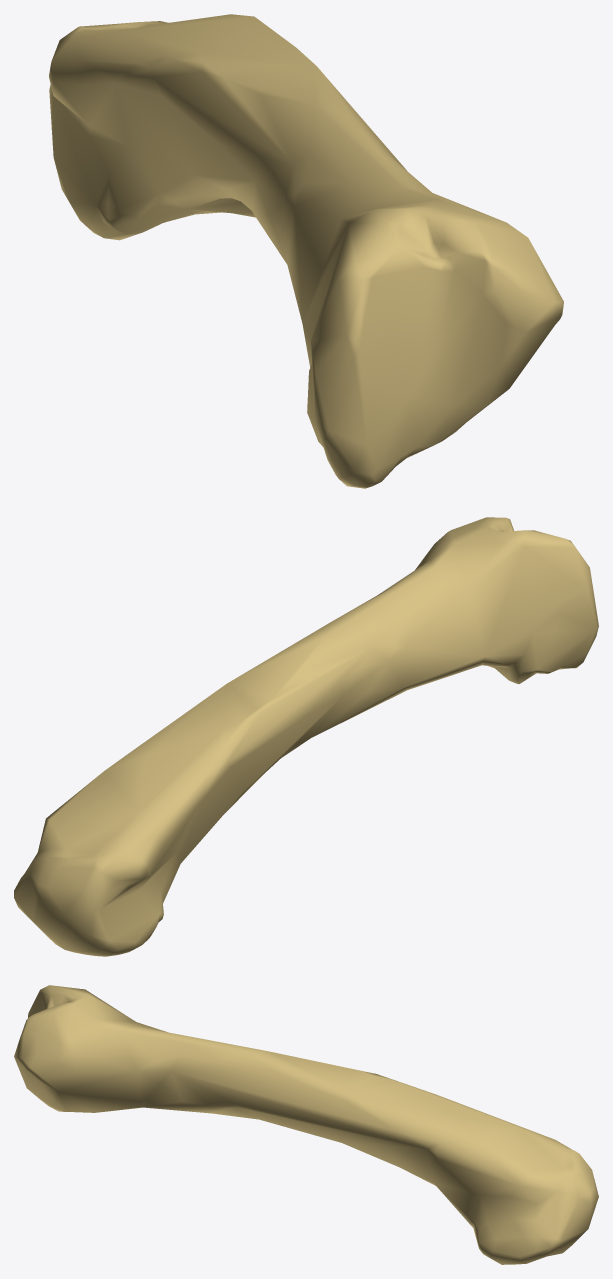
The picture shows the model from 3 angles, top to bottom: view 1: azimuth 30°, elevation 25°; view 2: azimuth 150°, elevation 25°; view 3: azimuth 270°, elevation 25°; orthographic projection. The views are drawn at different scales.
Parts seen in each view (by area): view 1: 左侧第二掌骨; view 2: 左侧第二掌骨; view 3: 左侧第二掌骨.
Boxes of the visible parts, x1,y1,x2,y2 form: 左侧第二掌骨: [49, 14, 563, 488]; 左侧第二掌骨: [14, 517, 598, 956]; 左侧第二掌骨: [14, 985, 598, 1264].
Size of the model in its own units: 0.0473 by 0.0393 by 0.1039.
